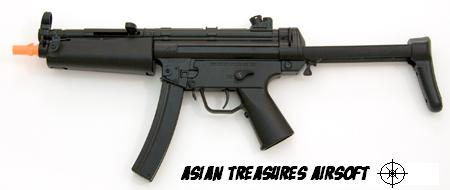rifle: (9, 14, 436, 180)
